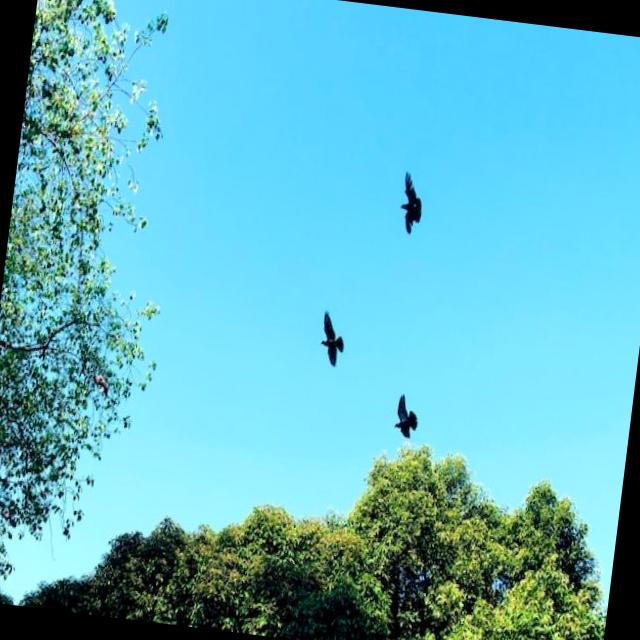bird: (384, 159, 436, 240), (372, 386, 427, 442), (304, 312, 356, 371)
